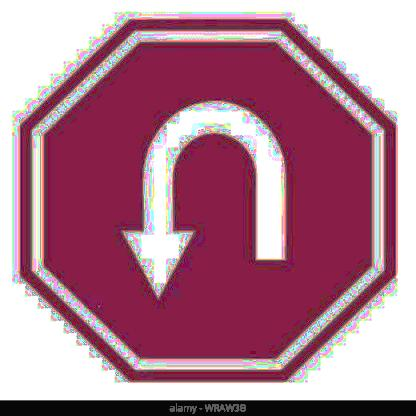U-turn: (17, 20, 398, 381)
